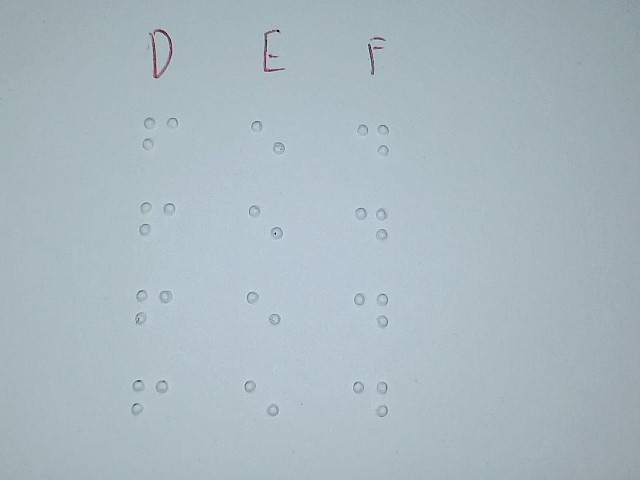D: (354, 108, 394, 185), (352, 192, 392, 269), (352, 275, 392, 352), (350, 365, 390, 442)
E: (247, 105, 289, 182), (245, 187, 287, 264), (242, 275, 284, 352), (241, 365, 283, 442)
F: (140, 99, 182, 181), (136, 185, 178, 267), (133, 274, 175, 356), (129, 362, 171, 444)
